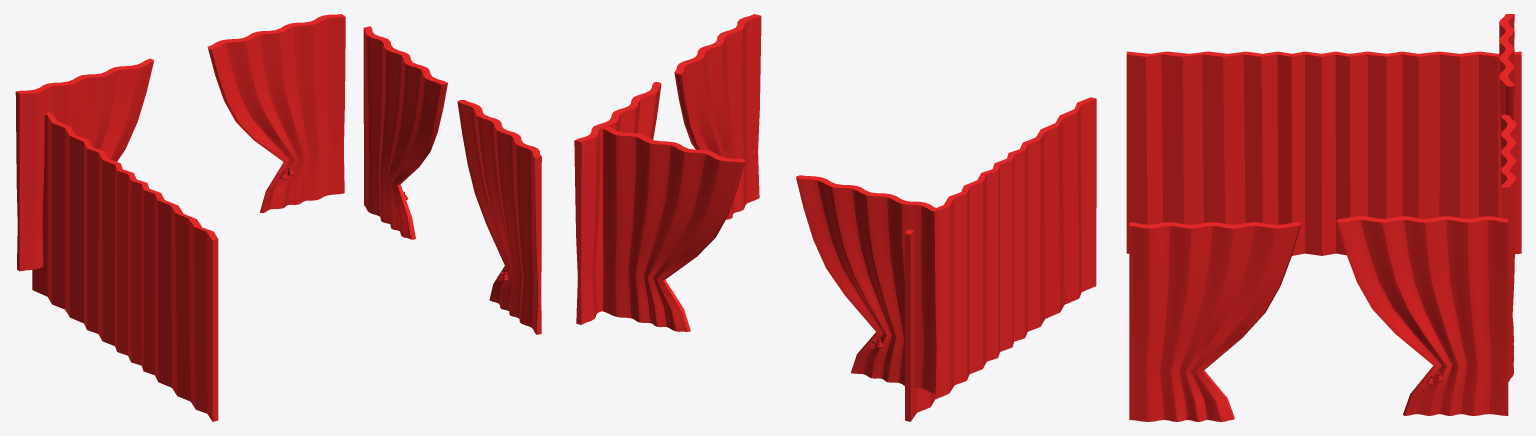
Rendered from RecCenterCurtain.fbx.
3 views of the same model, side by side, from view 1: azimuth 30°, elevation 25°; view 2: azimuth 150°, elevation 25°; view 3: azimuth 270°, elevation 25° (orthographic). The views are drawn at different scales.
Visible parts, largest first — view 1: Curtain_Flat_LOD1__1_, Curtain_LOD0, Curtain_LOD0__1_, Curtain_LOD0__2_; view 2: Curtain_Flat_LOD1__1_, Curtain_LOD0, Curtain_LOD0__1_, Curtain_LOD0__2_; view 3: Curtain_Flat_LOD1__1_, Curtain_LOD0, Curtain_LOD0__2_, Curtain_LOD0__1_.
Boxes of the visible parts, box(x1,y1,x2,y2) form: Curtain_Flat_LOD1__1_: box(32, 112, 218, 421); Curtain_LOD0: box(15, 58, 541, 334); Curtain_LOD0__1_: box(207, 14, 345, 213); Curtain_LOD0__2_: box(363, 26, 447, 239); Curtain_Flat_LOD1__1_: box(905, 97, 1096, 421); Curtain_LOD0: box(674, 14, 938, 393); Curtain_LOD0__1_: box(603, 126, 745, 331); Curtain_LOD0__2_: box(574, 82, 661, 324); Curtain_Flat_LOD1__1_: box(1126, 51, 1521, 255); Curtain_LOD0: box(1129, 14, 1516, 421); Curtain_LOD0__2_: box(1336, 216, 1508, 415); Curtain_LOD0__1_: box(1501, 114, 1516, 381).
Size of the model in its own units: 1275 by 698 by 1110.
